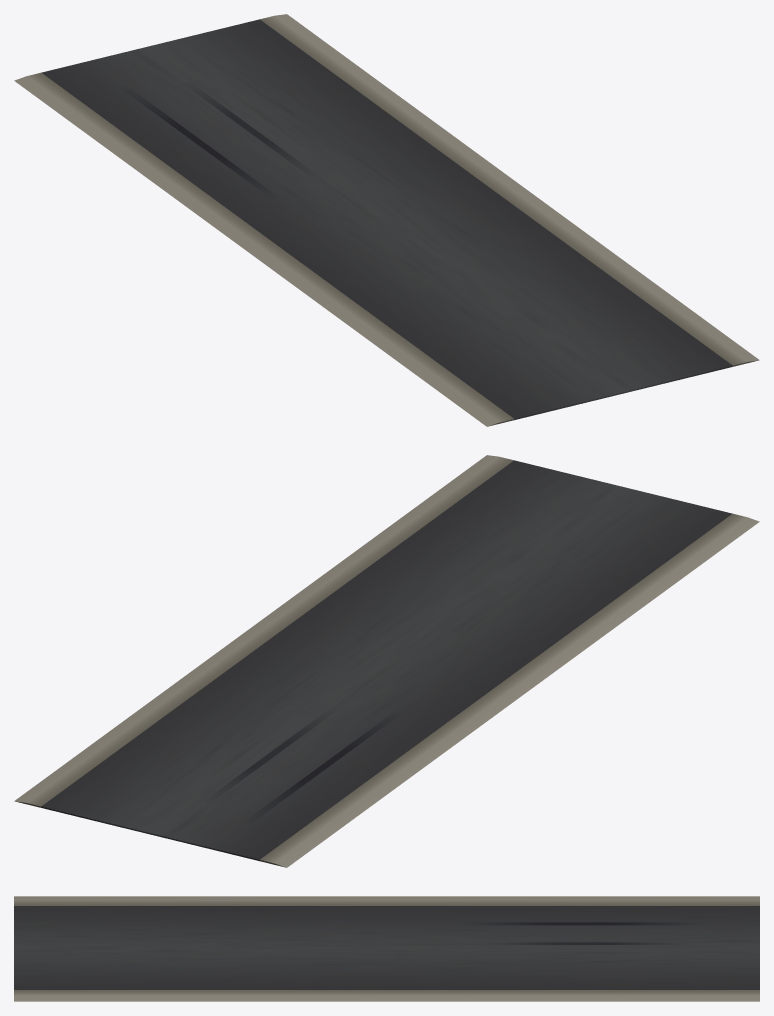
The model's file is Straight_1F_Long.glb.
The picture shows the model from 3 angles, top to bottom: view 1: azimuth 30°, elevation 25°; view 2: azimuth 150°, elevation 25°; view 3: azimuth 270°, elevation 25°; orthographic projection. The views are drawn at different scales.
Visible parts, largest first — view 1: Straight_1F_Long, Straight_1F_Long_Skidmarks; view 2: Straight_1F_Long, Straight_1F_Long_Skidmarks; view 3: Straight_1F_Long, Straight_1F_Long_Skidmarks.
Boxes of the visible parts, x1=… form: Straight_1F_Long: x1=14, y1=14, x2=759, y2=426; Straight_1F_Long_Skidmarks: x1=118, y1=81, x2=317, y2=200; Straight_1F_Long: x1=14, y1=455, x2=759, y2=867; Straight_1F_Long_Skidmarks: x1=204, y1=707, x2=404, y2=824; Straight_1F_Long: x1=14, y1=896, x2=759, y2=1001; Straight_1F_Long_Skidmarks: x1=460, y1=922, x2=707, y2=944.
Size of the model in its own units: 20 by 0.1085 by 60.
Materials: 1 (1 with a texture image).
